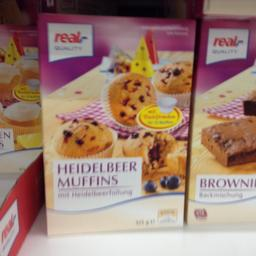cake: (32, 10, 191, 236), (193, 14, 255, 231)
